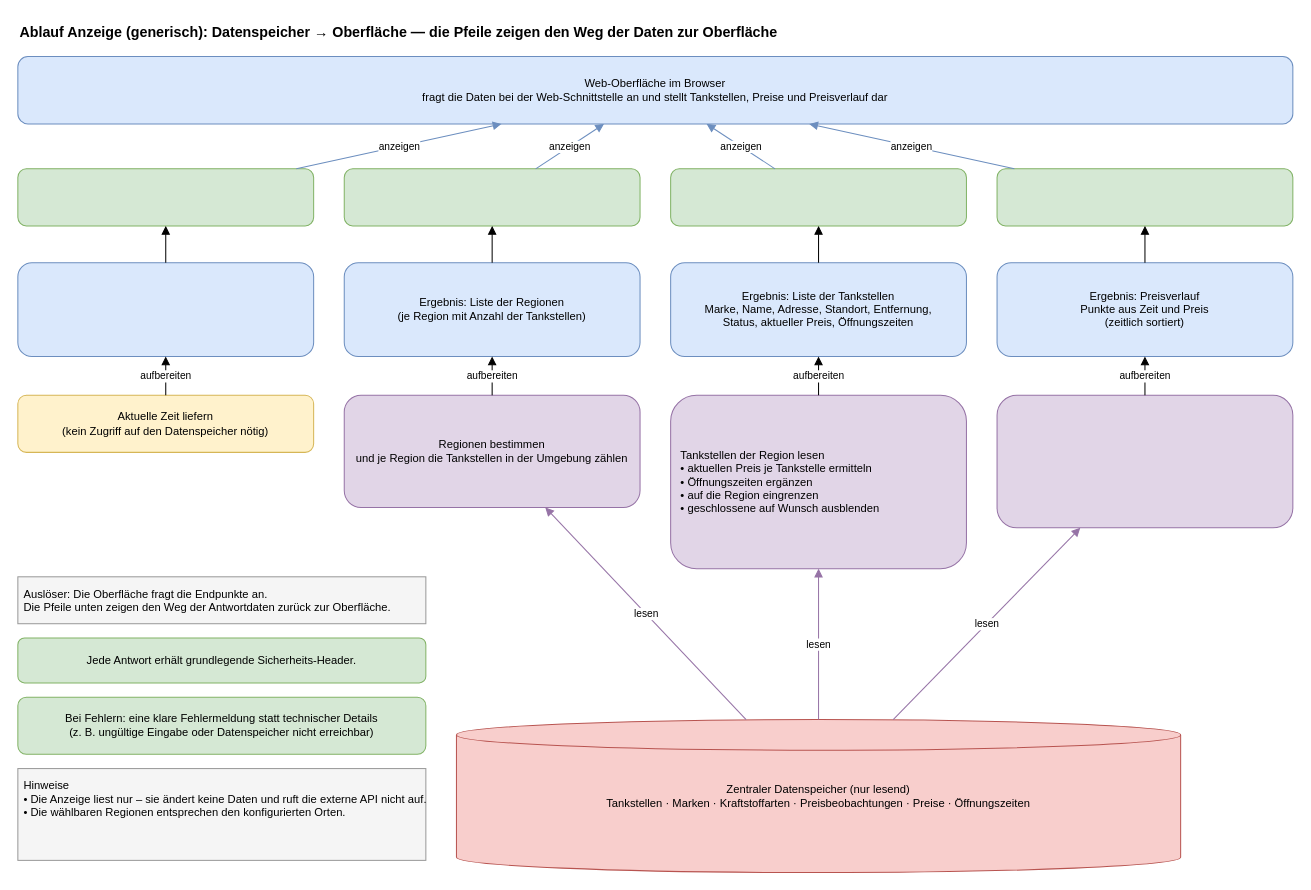
Image size: 1311x890. Some labels were removed from this diagram. The centre of each missing label's shape, as x and y in pixels:
"Anfrage: allgemeine Infos (Zeitbezug für die Diagramm-Achse)" goes at (165,197).
"Anfrage: Preisverlauf einer Tankstelle" goes at (1144,197).
"Anfrage: Tankstellen einer Region für einen Kraftstoff · optional nur geöffnete" goes at (818,197).
"Anfrage: verfügbare Regionen" goes at (491,197).
"Ergebnis: Zeitbezug" goes at (165,309).
"Preispunkte der letzten zwei Wochen lesen zeitlich sortiert" goes at (1144,461).
